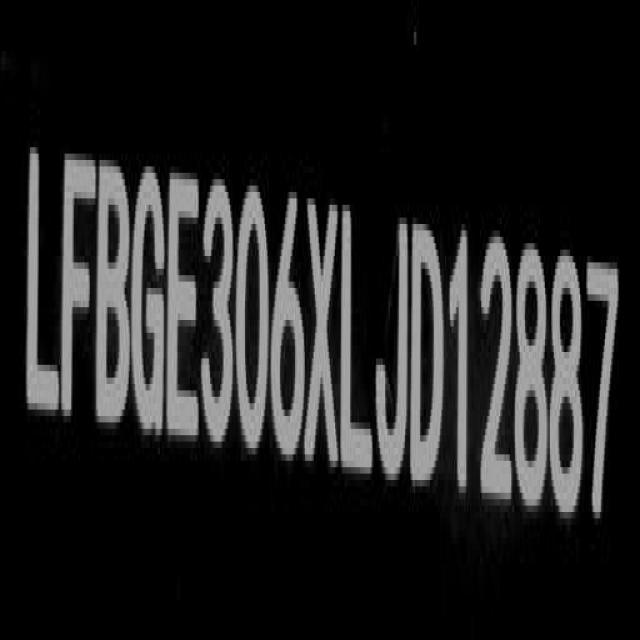0: (237, 184, 271, 462)
1: (452, 220, 474, 506)
2: (480, 230, 513, 510)
3: (204, 174, 236, 453)
6: (272, 185, 306, 466)
7: (591, 260, 623, 533)
8: (518, 242, 550, 516), (553, 249, 584, 522)
B: (98, 160, 134, 442)
D: (412, 217, 444, 500)
E: (170, 169, 204, 452)
F: (62, 149, 97, 438)
G: (132, 161, 166, 445)
J: (377, 215, 412, 491)
L: (21, 138, 64, 430), (344, 202, 374, 484)
X: (306, 192, 340, 477)
